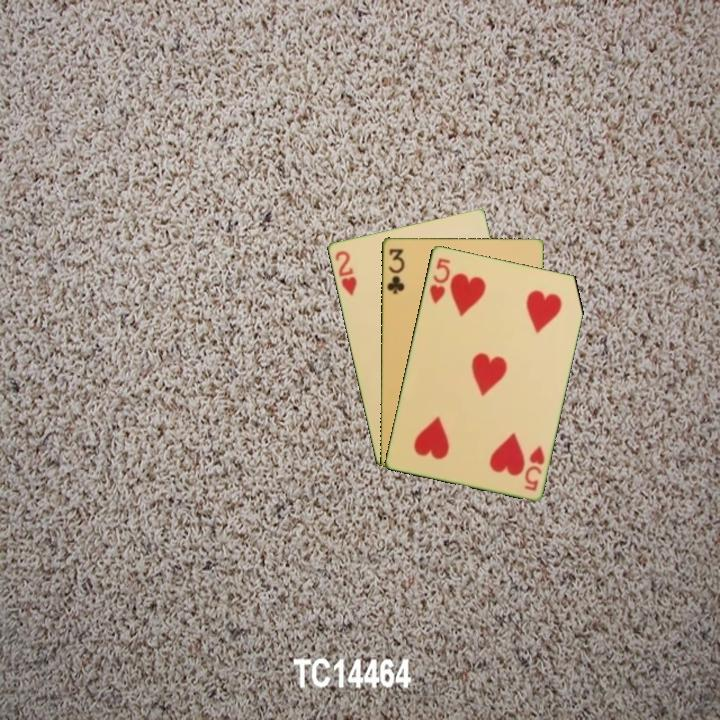2h: (331, 247, 360, 299)
3c: (383, 245, 407, 296)
5h: (426, 254, 453, 306), (521, 442, 547, 493)
